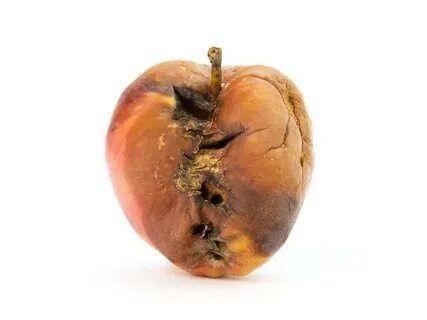Apple: (106, 61, 314, 276)
